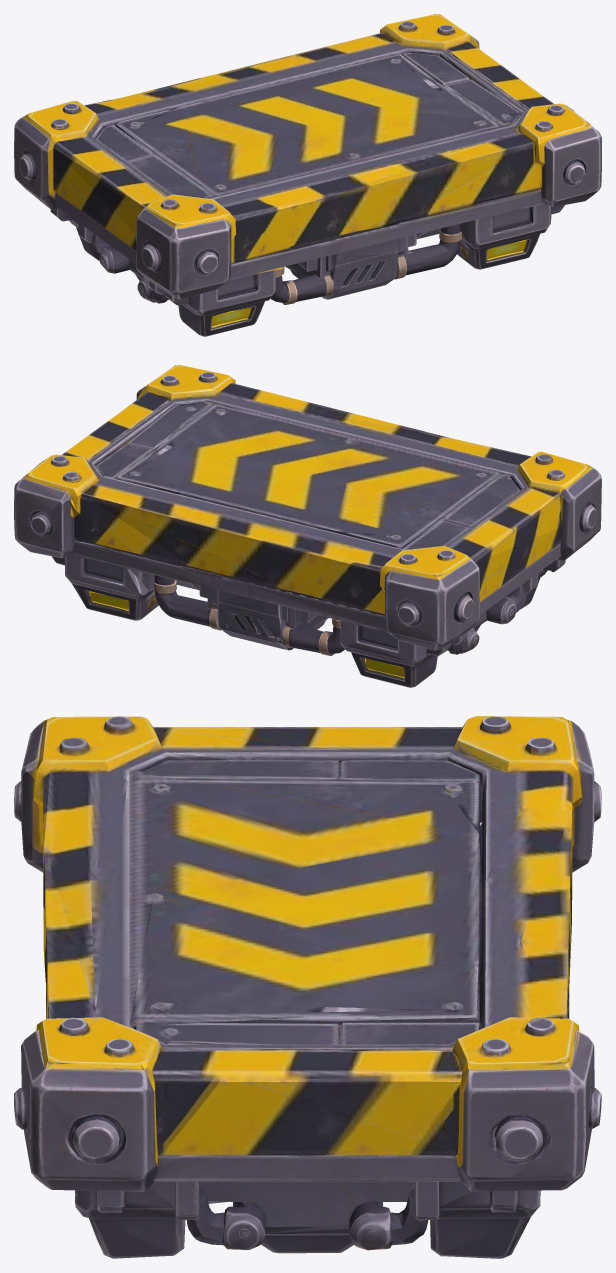
The model's file is speed_pad.glb.
The picture shows the model from 3 angles, top to bottom: view 1: azimuth 30°, elevation 25°; view 2: azimuth 150°, elevation 25°; view 3: azimuth 270°, elevation 25°; orthographic projection. The views are drawn at different scales.
Visible parts, largest first — view 1: output_unwrapped; view 2: output_unwrapped; view 3: output_unwrapped.
Boxes of the visible parts, x1,y1,x2,y2 form: output_unwrapped: (14, 14, 601, 336); output_unwrapped: (14, 365, 601, 687); output_unwrapped: (14, 716, 601, 1258).
Size of what is drawn, in the model's own units: 3.3 by 1 by 2.19.
1 material, 1 textured.
